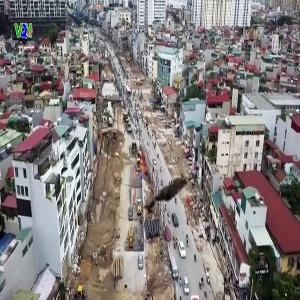drone: (123, 139, 225, 241)
